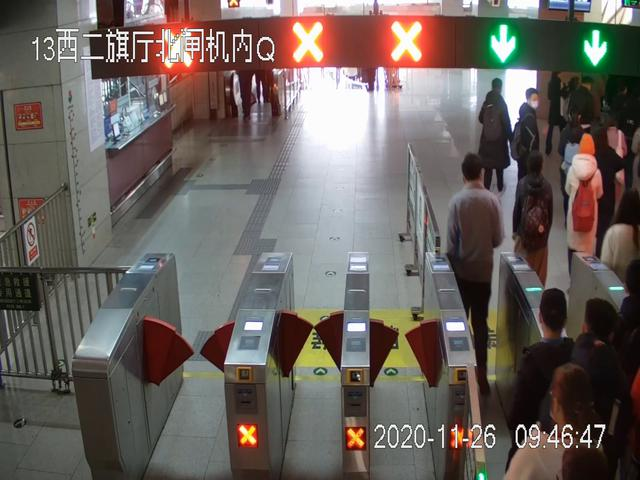person: (507, 290, 582, 480), (447, 153, 506, 394), (504, 364, 615, 480), (510, 152, 553, 303), (565, 133, 604, 294), (512, 89, 550, 209), (476, 77, 512, 191)
